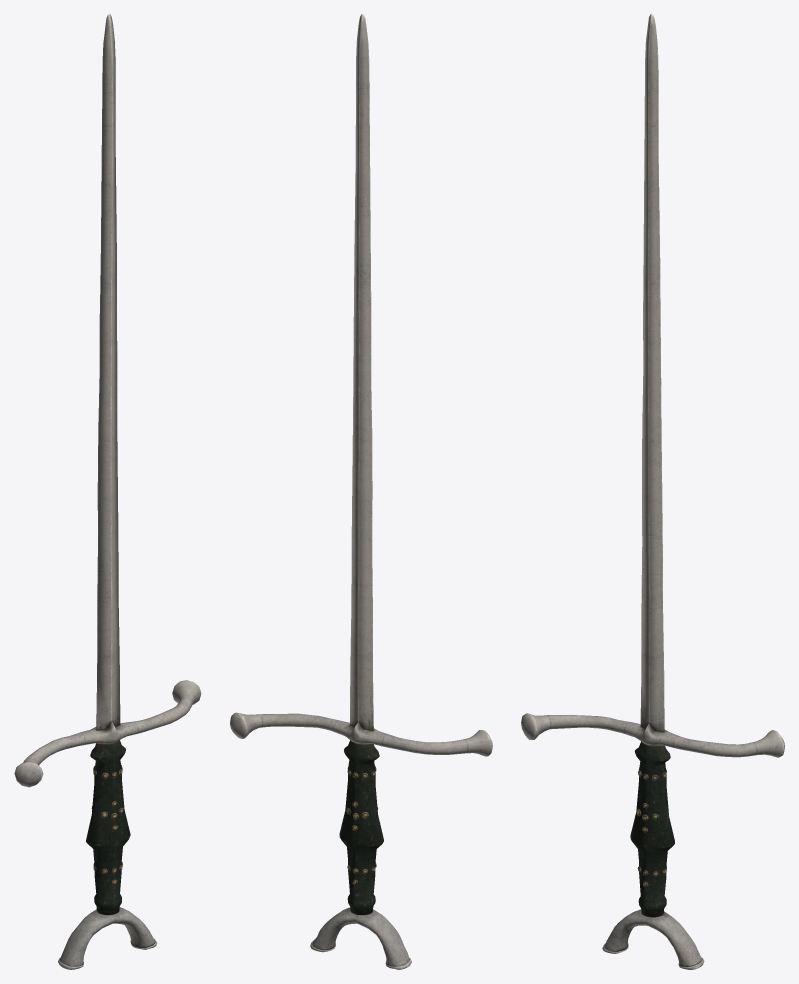
Rendered from antique_estoc.glb.
3 renders of one model, left to right at view 1: azimuth 30°, elevation 25°; view 2: azimuth 150°, elevation 25°; view 3: azimuth 330°, elevation 25°, orthographic.
Visible parts, largest first — view 1: antique_estoc; view 2: antique_estoc; view 3: antique_estoc.
Boxes of the visible parts, bbox=[...] form: antique_estoc: bbox=[14, 14, 201, 969]; antique_estoc: bbox=[230, 14, 492, 969]; antique_estoc: bbox=[521, 14, 784, 969].
Bounding box in the file's own units: 0.3715 × 1.49 × 0.1491.
Materials: 1 (1 with a texture image).
